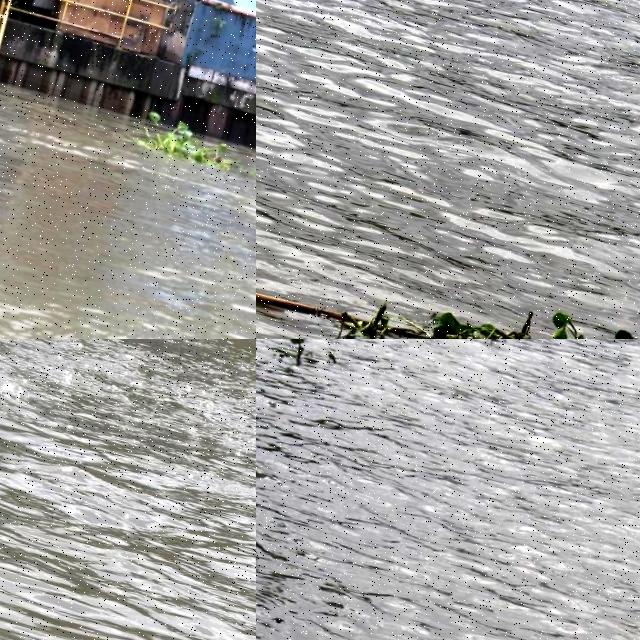water-hyacinth: (328, 256, 640, 340), (133, 108, 246, 176)
